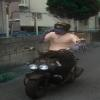motorcycles: (20, 48, 81, 96)
